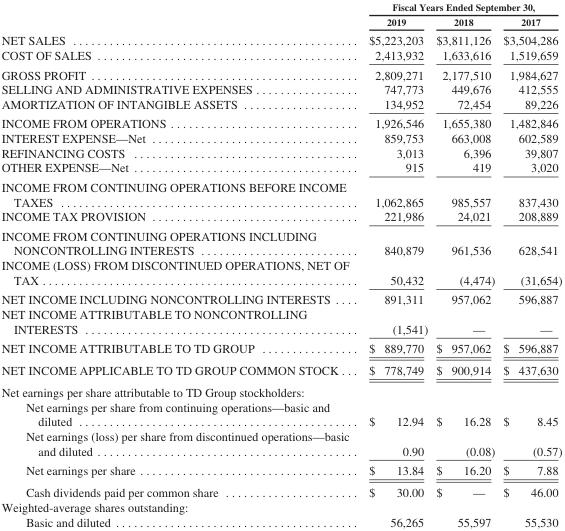table: (0, 1, 561, 528)
table column: (0, 1, 358, 528), (358, 1, 431, 528), (431, 1, 498, 528), (498, 1, 561, 528)
table column header: (0, 1, 561, 30)
table projected row header: (0, 380, 561, 399), (0, 499, 561, 514)
table row: (0, 225, 561, 257), (0, 257, 561, 289), (0, 306, 561, 338), (0, 428, 561, 460), (0, 177, 561, 208), (0, 399, 561, 428), (0, 358, 561, 380), (0, 460, 561, 481), (0, 338, 561, 358), (0, 380, 561, 399), (0, 159, 561, 177), (0, 481, 561, 499), (0, 30, 561, 47), (0, 47, 561, 64), (0, 64, 561, 81), (0, 96, 561, 113), (0, 113, 561, 130), (0, 208, 561, 225), (0, 289, 561, 306), (0, 14, 561, 30), (0, 81, 561, 96), (0, 130, 561, 145), (0, 499, 561, 514), (0, 145, 561, 159), (0, 514, 561, 528), (0, 1, 561, 14)
table spanning cell: (358, 1, 561, 14)
